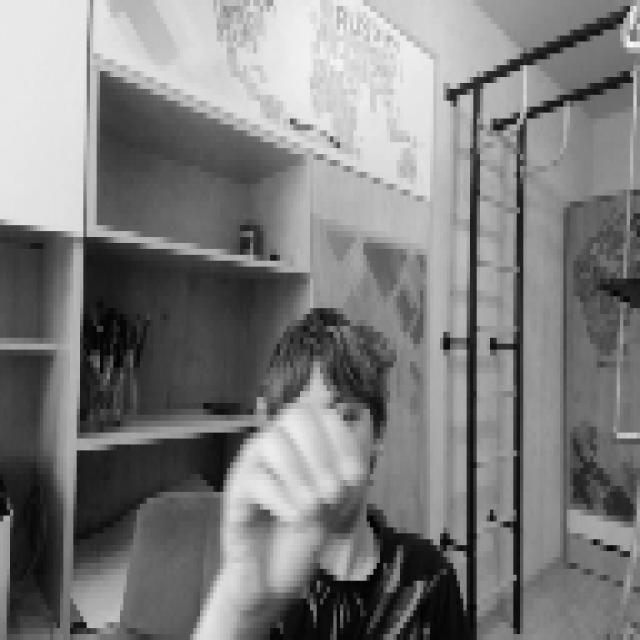left_click: (217, 386, 363, 610)
